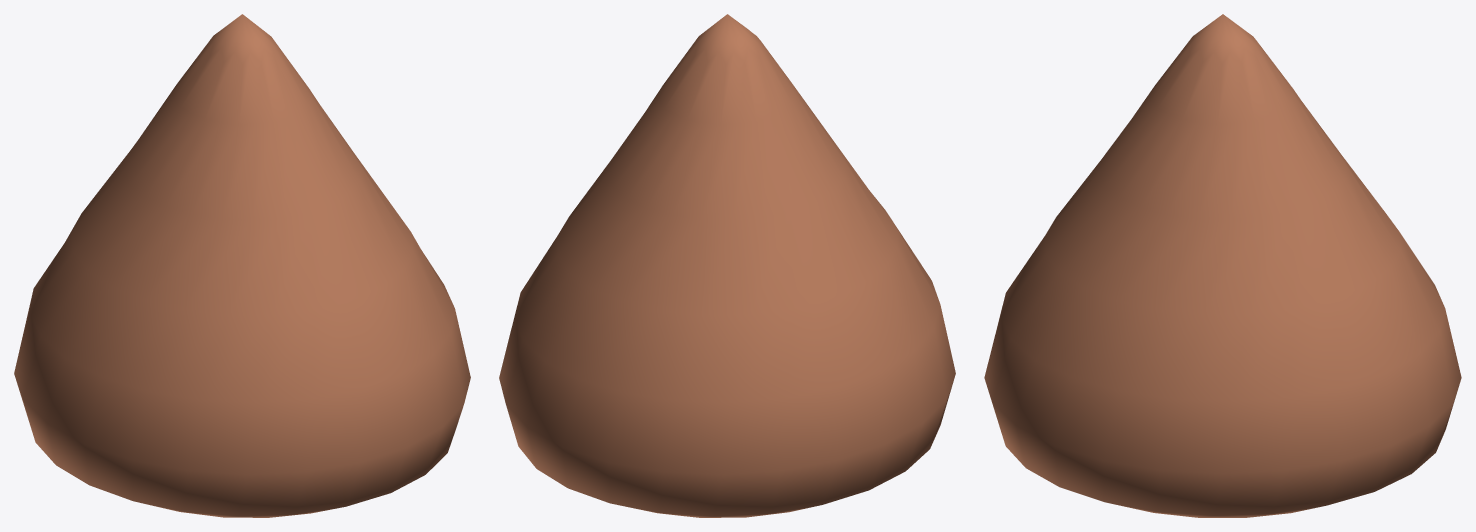
File: Candy_C_05.fbx
3 renders of one model, left to right at view 1: azimuth 30°, elevation 25°; view 2: azimuth 150°, elevation 25°; view 3: azimuth 270°, elevation 25°, orthographic.
Parts seen in each view (by area): view 1: Candy_C_05_LOD0; view 2: Candy_C_05_LOD0; view 3: Candy_C_05_LOD0.
Boxes of the visible parts, x1,y1,x2,y2 form: Candy_C_05_LOD0: (14,14,470,517); Candy_C_05_LOD0: (499,14,955,517); Candy_C_05_LOD0: (984,14,1461,517).
Size of what is drawn, in the model's own units: 312 by 330 by 328.
